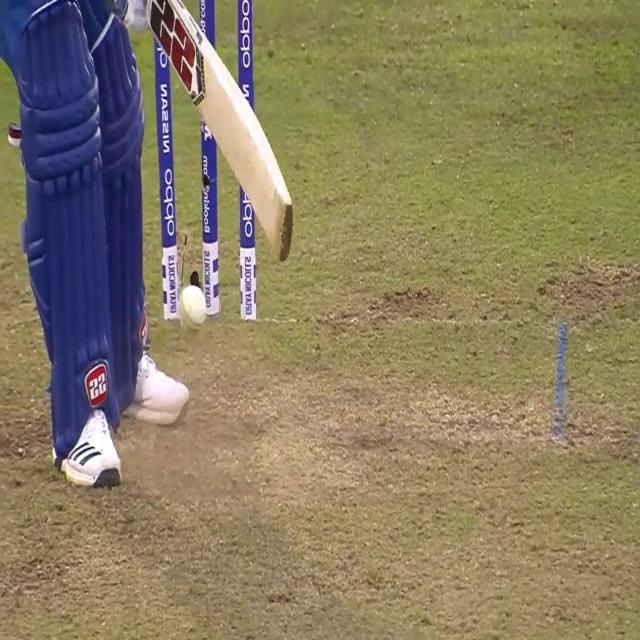ball: (175, 287, 209, 334)
